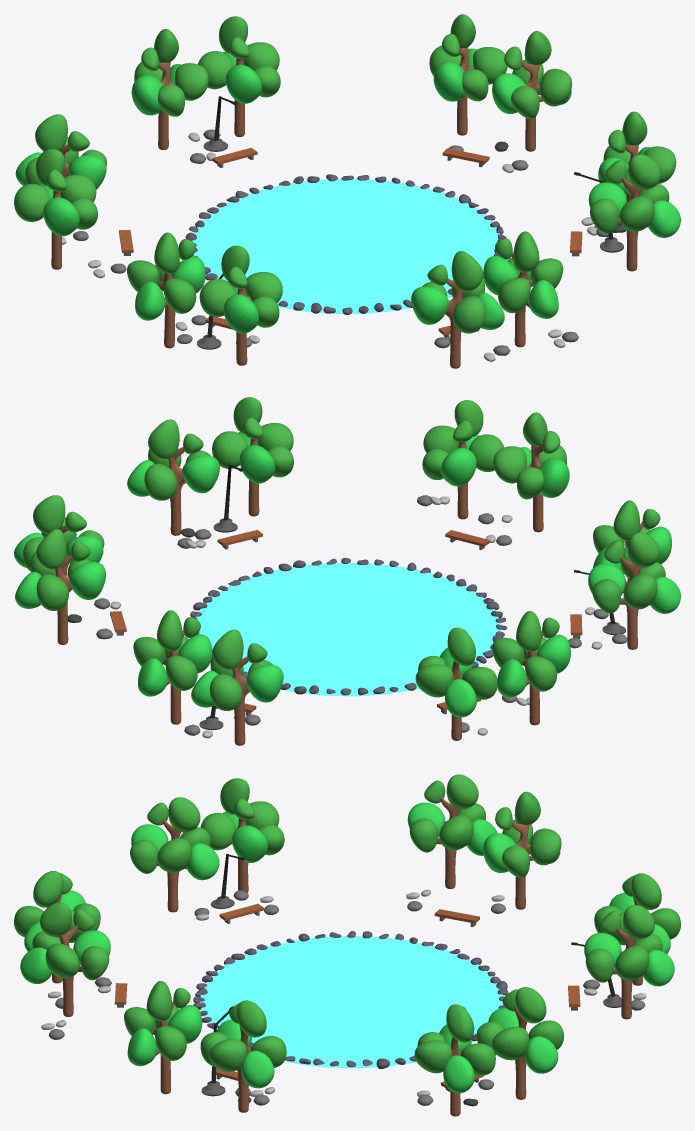
The picture shows the model from 3 angles, top to bottom: view 1: azimuth 30°, elevation 25°; view 2: azimuth 150°, elevation 25°; view 3: azimuth 270°, elevation 25°; orthographic projection. The views are drawn at different scales.
Visible parts, largest first — view 1: Cylinder, Cylinder.057, Cylinder.059, Cylinder.060, Cylinder.007, Cylinder.010, Cylinder.011, Cylinder.005, Cylinder.012, Cylinder.004, Cylinder.015, Cylinder.006 (+2 smaller); view 2: Cylinder, Cylinder.007, Cylinder.012, Cylinder.016, Cylinder.015, Cylinder.005, Cylinder.010, Cylinder.057, Cylinder.060, Cylinder.059, Cylinder.006, Cylinder.004 (+3 smaller); view 3: Cylinder, Cylinder.011, Cylinder.005, Cylinder.060, Cylinder.010, Cylinder.015, Cylinder.016, Cylinder.057, Cylinder.007, Cylinder.006, Cylinder.004, Cylinder.059 (+2 smaller).
Boxes of the visible parts, x1,y1,x2,y2 form: Cylinder: (192,178,500,313); Cylinder.057: (588,154,680,271); Cylinder.059: (411,251,504,368); Cylinder.060: (483,231,563,347); Cylinder.007: (127,232,205,348); Cylinder.010: (14,149,97,269); Cylinder.011: (199,245,282,365); Cylinder.005: (198,16,280,136); Cylinder.012: (131,29,208,149); Cylinder.004: (492,31,572,151); Cylinder.015: (429,14,507,135); Cylinder.006: (15,114,106,189); Cylinder: (196,562,500,696); Cylinder.007: (588,532,680,649); Cylinder.012: (191,629,283,745); Cylinder.016: (127,419,219,535); Cylinder.015: (15,529,105,644); Cylinder.005: (133,610,212,724); Cylinder.010: (492,611,570,725); Cylinder.057: (212,397,293,516); Cylinder.060: (422,400,503,519); Cylinder.059: (493,412,569,532); Cylinder.006: (415,627,497,740); Cylinder.004: (14,495,104,576); Cylinder: (200,936,503,1068); Cylinder.011: (130,797,219,912); Cylinder.005: (584,905,674,1019); Cylinder.060: (20,902,110,1016); Cylinder.010: (407,774,497,888); Cylinder.015: (476,987,563,1099); Cylinder.016: (200,1000,286,1112); Cylinder.057: (124,981,202,1094); Cylinder.007: (200,778,284,892); Cylinder.006: (483,791,561,909); Cylinder.004: (414,1004,495,1116); Cylinder.059: (14,871,100,983).
Size of what is drawn, in the model's own units: 17.29 by 3.57 by 18.54.
